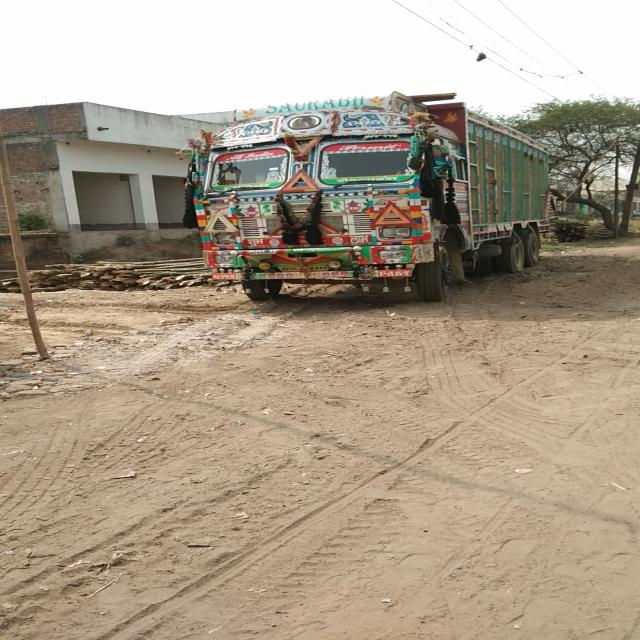Truck: (170, 76, 557, 306)
